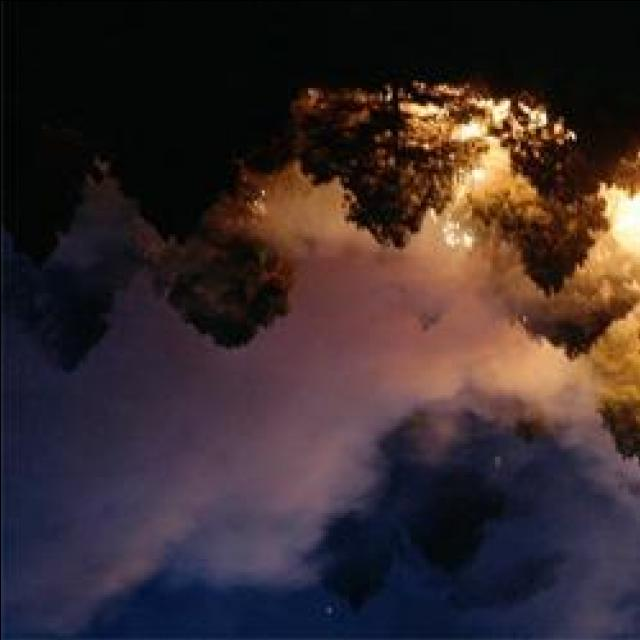fire: (614, 201, 640, 244)
smoke: (140, 481, 298, 578), (563, 514, 640, 634), (421, 344, 541, 404), (323, 351, 411, 426), (268, 204, 332, 237)
